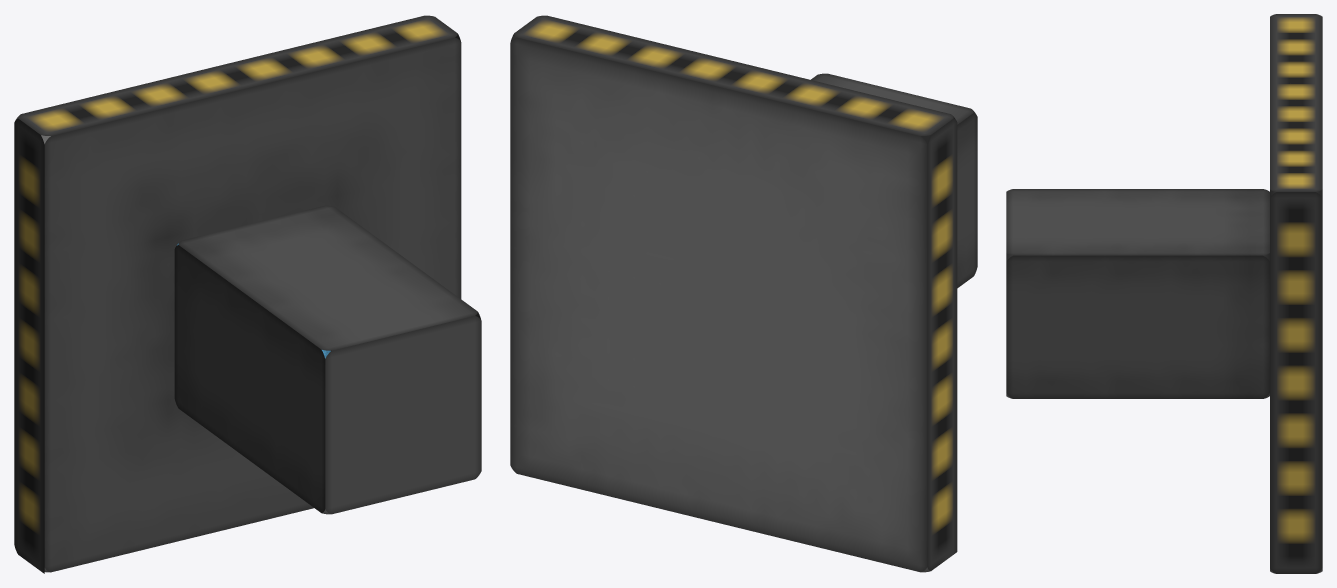
File: Pusher.obj
3 renders of one model, left to right at view 1: azimuth 30°, elevation 25°; view 2: azimuth 150°, elevation 25°; view 3: azimuth 270°, elevation 25°, orthographic. The views are drawn at different scales.
Parts seen in each view (by area): view 1: cuboid; view 2: cuboid; view 3: cuboid.
Boxes of the visible parts, x1,y1,x2,y2 form: cuboid: (14, 15, 481, 573); cuboid: (510, 15, 977, 572); cuboid: (1006, 14, 1322, 573).
Size of the model in its own units: 1 by 1 by 0.75.
Materials: 1 (1 with a texture image).
